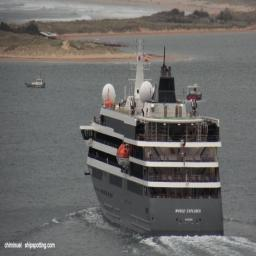cruises: (80, 52, 227, 241)
